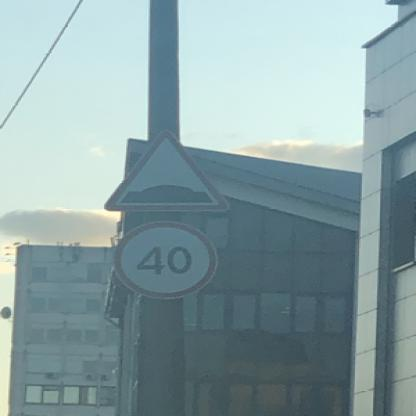speedlimit: (111, 220, 215, 298)
